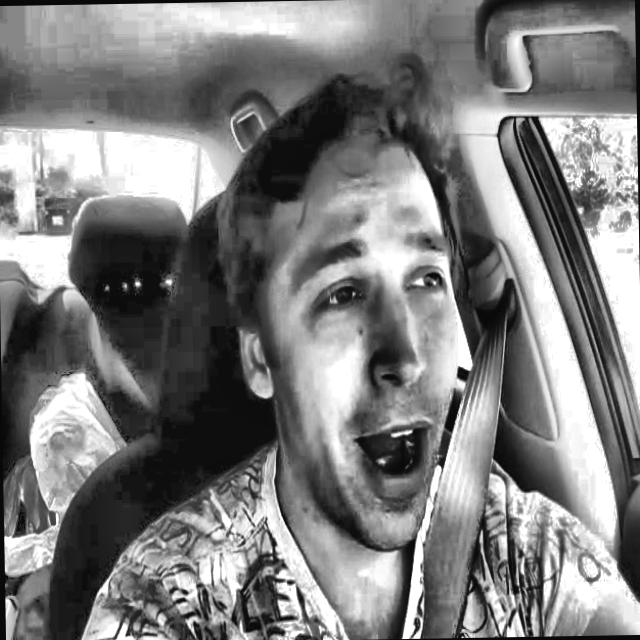open_eyes: (301, 272, 375, 325), (398, 258, 456, 310)
open_mouth: (336, 409, 449, 512)
